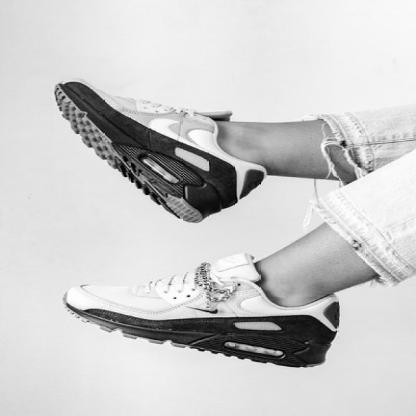ankle: (278, 291, 283, 298), (237, 134, 242, 137)
heel: (216, 190, 224, 196), (318, 342, 325, 347)
left_foot: (72, 265, 339, 365)
pinky: (125, 310, 131, 315), (92, 86, 96, 89)
right_foot: (56, 78, 266, 222)
toe: (96, 287, 105, 289), (83, 94, 88, 97)
